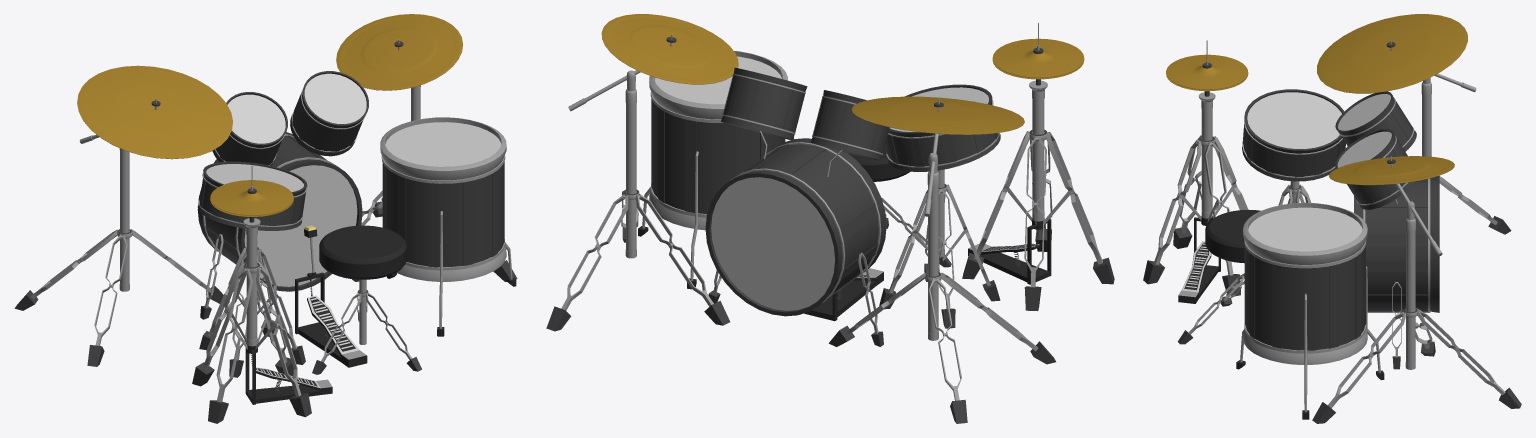
3 renders of one model, left to right at view 1: azimuth 30°, elevation 25°; view 2: azimuth 150°, elevation 25°; view 3: azimuth 270°, elevation 25°, orthographic. The views are drawn at different scales.
Parts seen in each view (by area): view 1: Tom1Drum_40, RideCymbal_15, BassDrum_27, CrashCymbal_20, Tom2Drum_36, Legs_9, Seat_0, Tom3Drum_37, SnareDrum_24, BassPedal_29, RideLegs_16, CymbalTop_7 (+9 smaller); view 2: BassDrum_27, Tom1Drum_40, CrashCymbal_20, RideCymbal_15, Legs_9, SnareDrum_24, Tom2Drum_36, Tom3Drum_37, CrashLegs_21, RideLegs_16, CymbalTop_7, SnareLegs_25 (+9 smaller); view 3: Tom1Drum_40, RideCymbal_15, SnareDrum_24, BassDrum_27, Legs_9, CrashLegs_21, CrashCymbal_20, Tom3Drum_37, Tom2Drum_36, CymbalTop_7, Seat_0, CrashBody_18 (+7 smaller).
Part boxes in pixels (x1,y1,x2,y2): Tom1Drum_40: (380,117,506,281); RideCymbal_15: (77,65,232,159); BassDrum_27: (197,132,362,291); CrashCymbal_20: (336,14,463,90); Tom2Drum_36: (290,71,368,156); Legs_9: (192,262,311,423); Seat_0: (319,225,406,279); Tom3Drum_37: (212,92,287,165); SnareDrum_24: (197,161,307,230); BassPedal_29: (295,272,367,367); RideLegs_16: (14,229,229,366); CymbalTop_7: (210,180,293,215); BassDrum_27: (705,138,886,316); Tom1Drum_40: (649,51,787,230); CrashCymbal_20: (601,14,738,84); RideCymbal_15: (851,96,1024,134); Legs_9: (962,131,1114,310); SnareDrum_24: (885,84,1000,171); Tom2Drum_36: (721,67,807,140); Tom3Drum_37: (810,90,889,160); CrashLegs_21: (546,191,730,331); RideLegs_16: (828,271,1055,423); CymbalTop_7: (992,38,1084,77); SnareLegs_25: (879,184,1000,328); Tom1Drum_40: (1243,202,1367,364); RideCymbal_15: (1317,14,1467,93); SnareDrum_24: (1242,89,1345,181); BassDrum_27: (1354,175,1439,312); Legs_9: (1143,135,1248,296); CrashLegs_21: (1312,308,1521,423); CrashCymbal_20: (1329,156,1454,185); Tom3Drum_37: (1335,91,1416,151); Tom2Drum_36: (1335,128,1415,209); CymbalTop_7: (1166,54,1248,89); Seat_0: (1205,209,1260,263); CrashBody_18: (1403,201,1417,369).
Bounding box in the file's own units: 2.96 × 1.71 × 2.39.
